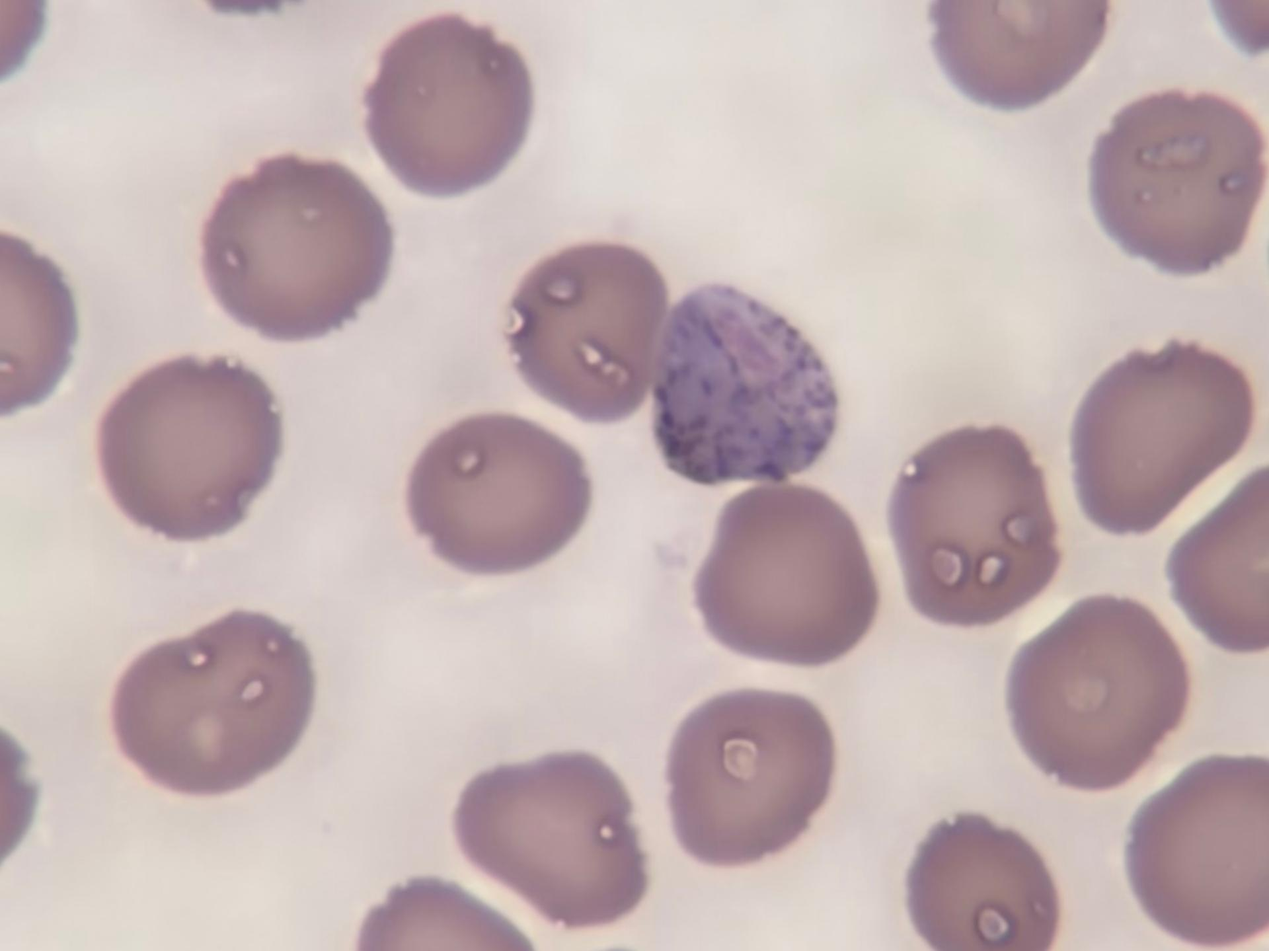Infected: (658, 287, 836, 486)
Uninfected: (106, 613, 311, 794), (1071, 342, 1254, 539), (203, 155, 395, 342), (1009, 591, 1190, 788), (454, 754, 654, 927), (894, 424, 1059, 627), (1088, 89, 1269, 270), (698, 485, 880, 664), (104, 360, 288, 537), (366, 18, 538, 199), (663, 692, 831, 866), (414, 419, 595, 578), (1124, 752, 1269, 949), (511, 243, 662, 420), (909, 816, 1058, 951)
